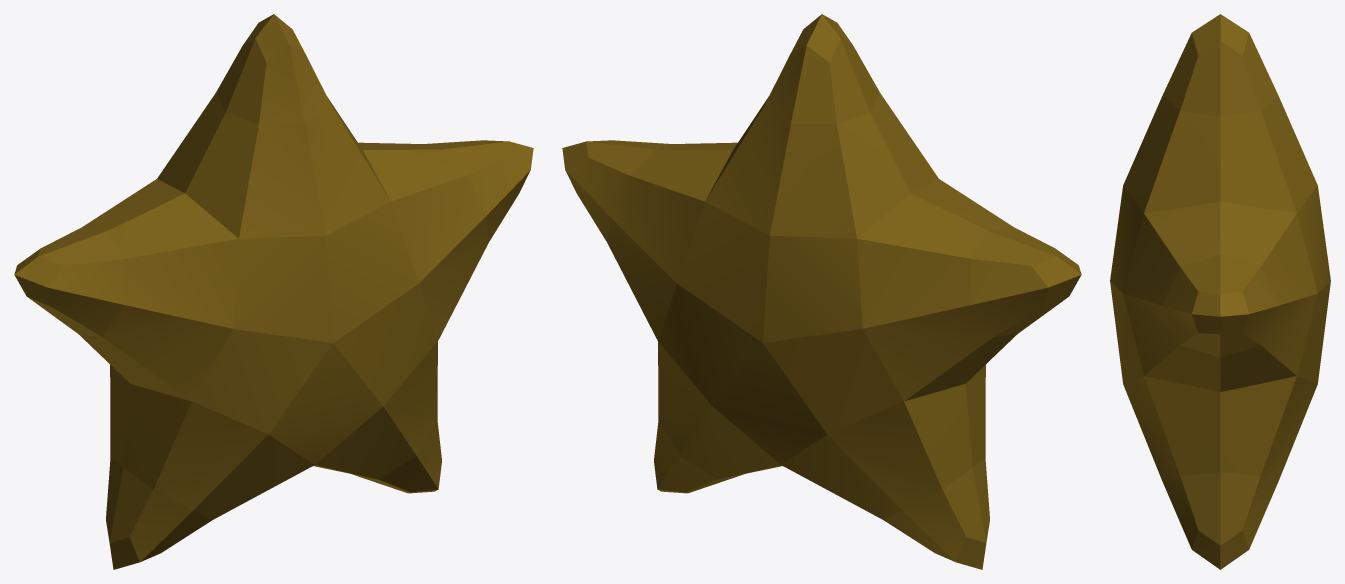
The model's file is starPrice.obj.
3 views of the same model, side by side, from view 1: azimuth 30°, elevation 25°; view 2: azimuth 150°, elevation 25°; view 3: azimuth 270°, elevation 25° (orthographic). The views are drawn at different scales.
Parts seen in each view (by area): view 1: Star_Cylinder.017; view 2: Star_Cylinder.017; view 3: Star_Cylinder.017.
Part boxes in pixels (bbox=[...]): Star_Cylinder.017: bbox=[14, 14, 533, 569]; Star_Cylinder.017: bbox=[562, 14, 1081, 569]; Star_Cylinder.017: bbox=[1110, 14, 1330, 569].
Size of the model in its own units: 0.9319 by 0.8862 by 0.3675.
